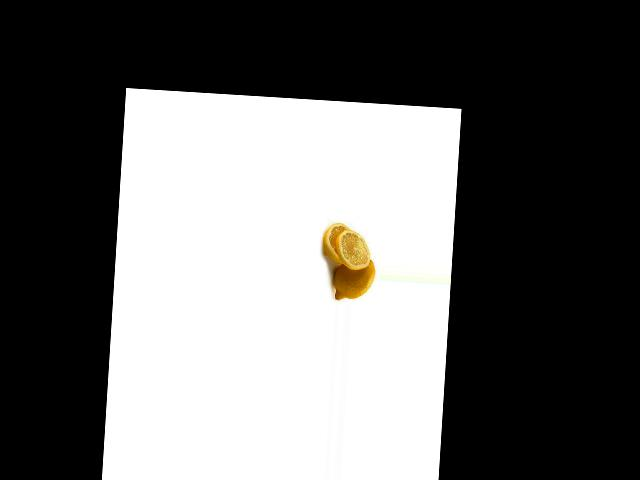lemon: (329, 253, 376, 306)
